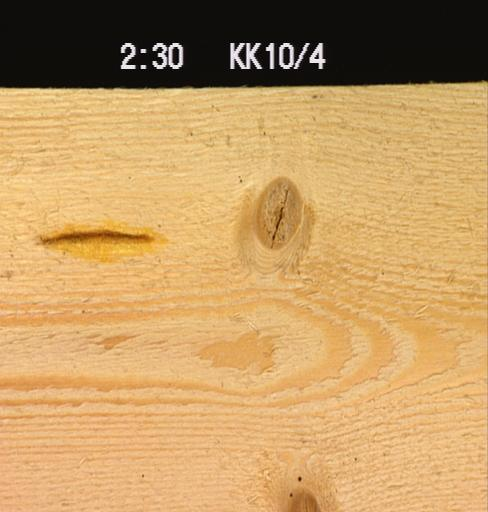edge_knot: (282, 471, 327, 510)
sound_knot: (251, 173, 304, 253)
